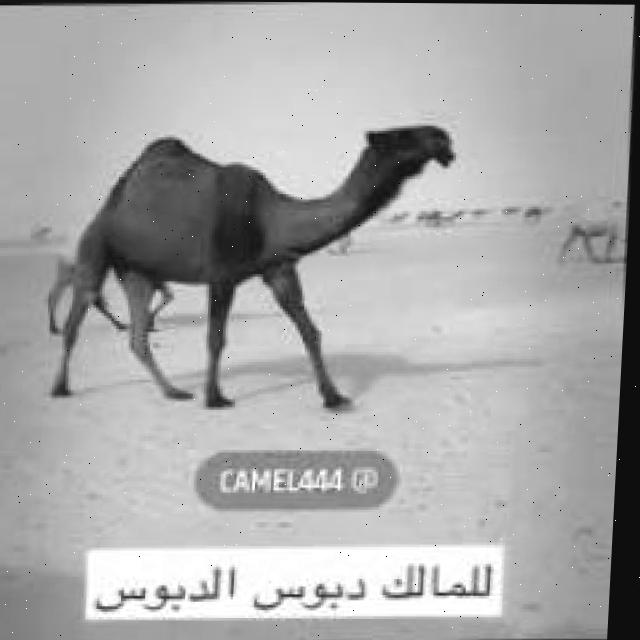Camel: (40, 120, 458, 409)
